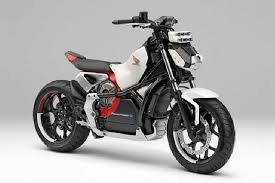motor: (32, 16, 237, 174)
